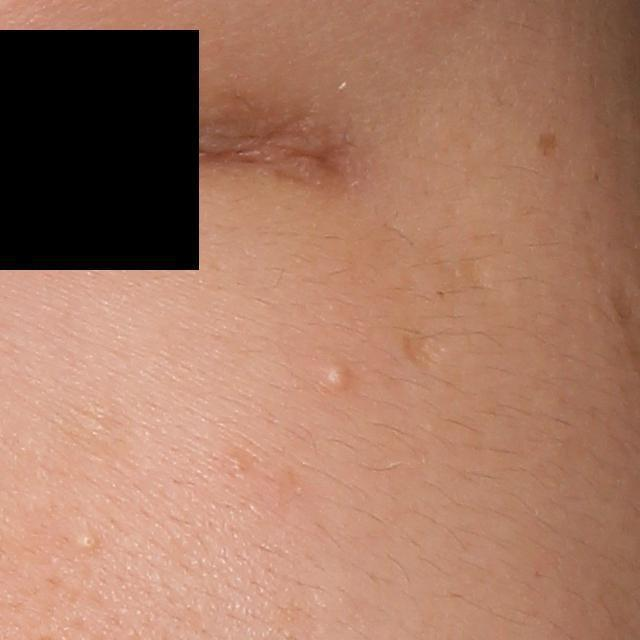atrophic_scar: (400, 330, 447, 372)
comedo: (323, 359, 354, 393), (74, 530, 102, 551)
